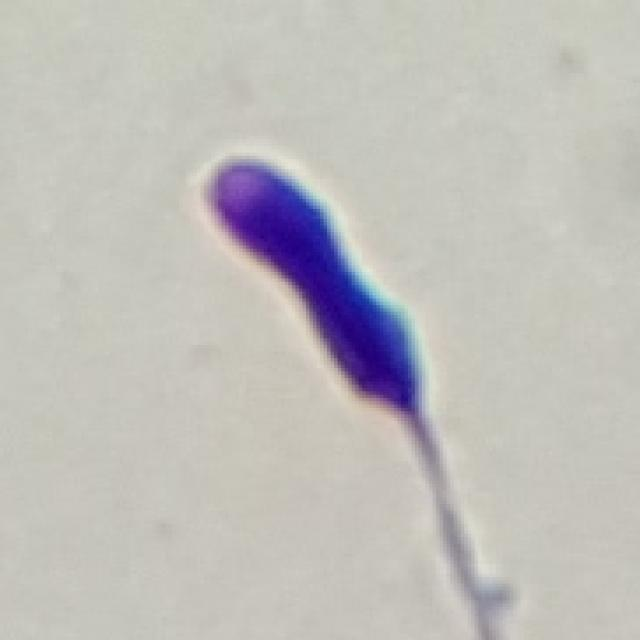abnormal sperm: (202, 154, 453, 521)
